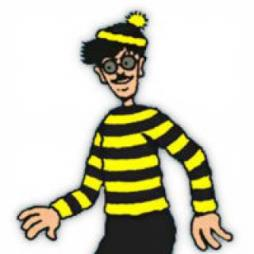odlaw: (8, 7, 247, 254)
